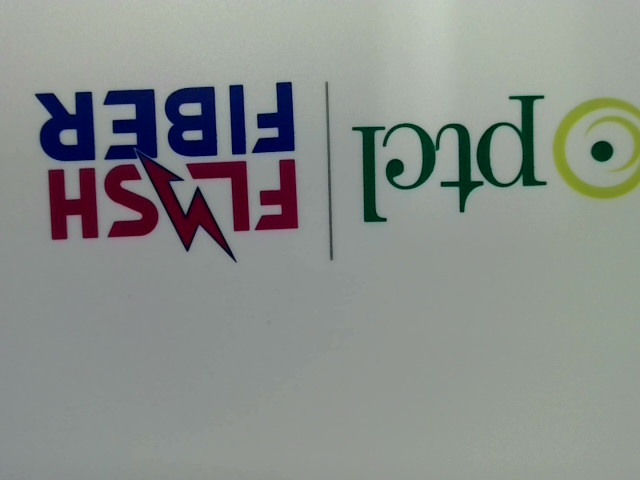BF_PTCL: (345, 90, 639, 229)
